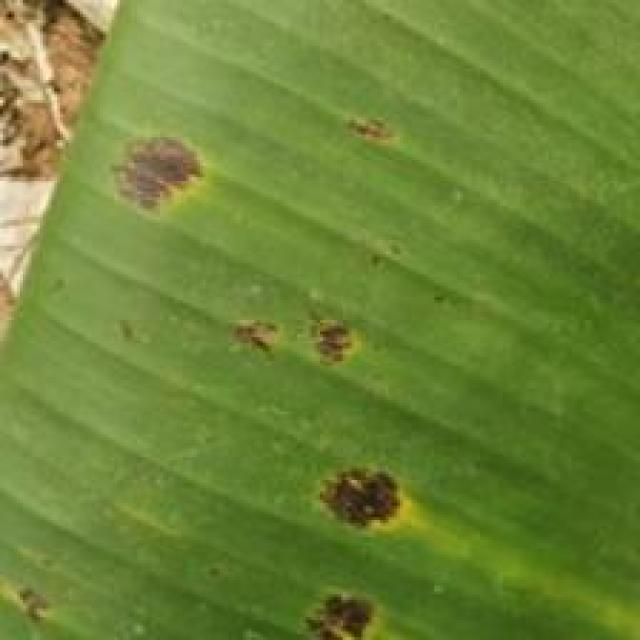Downey_mildrew: (231, 434, 640, 637), (165, 292, 397, 377), (102, 122, 245, 235), (329, 98, 403, 165)
